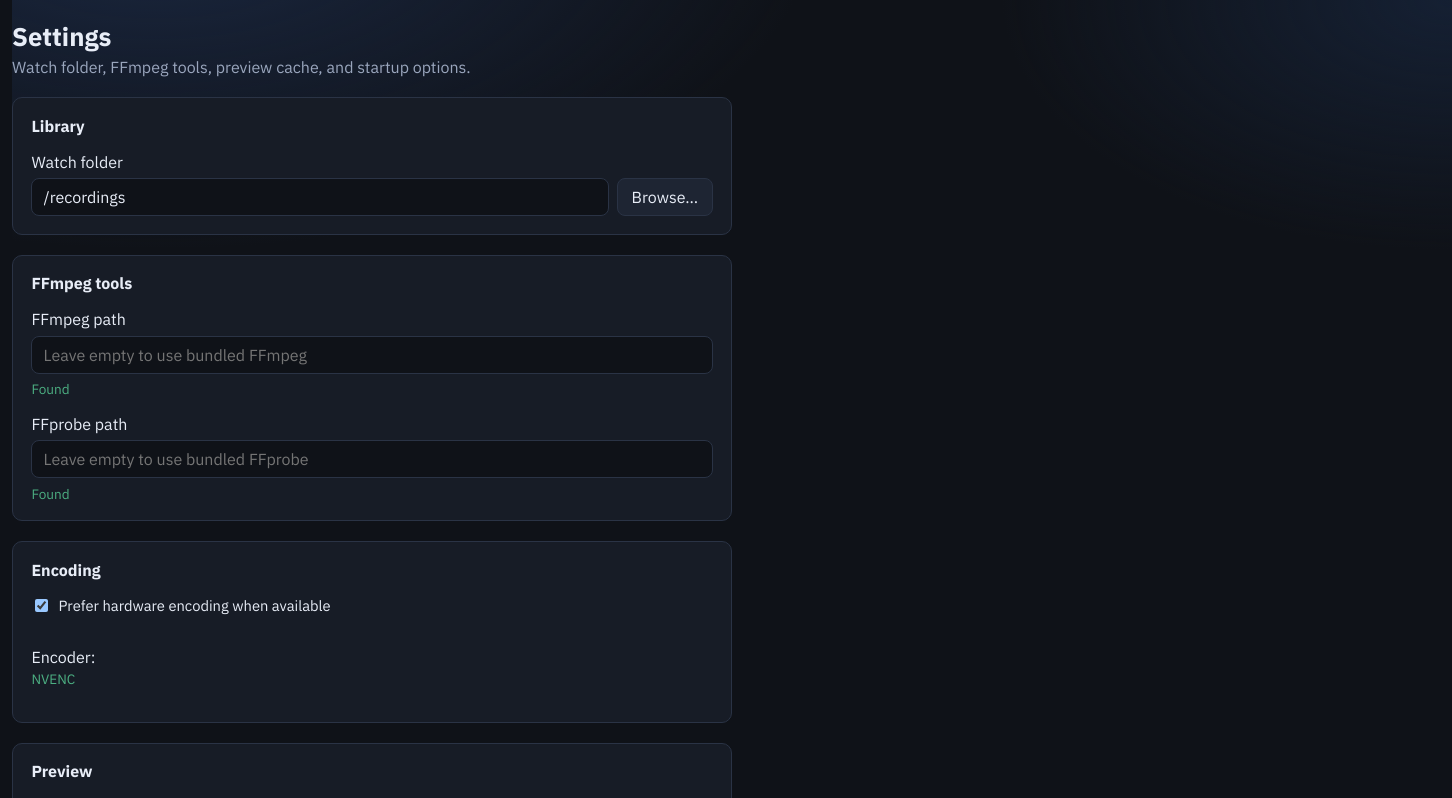
SettingsView watch folder access › applies browsed path when checkWatchDir succeeds
This screenshot has width=1452, height=798.
Step 1. Click the button "Browse…" → (665, 197), box [617,178,713,216]
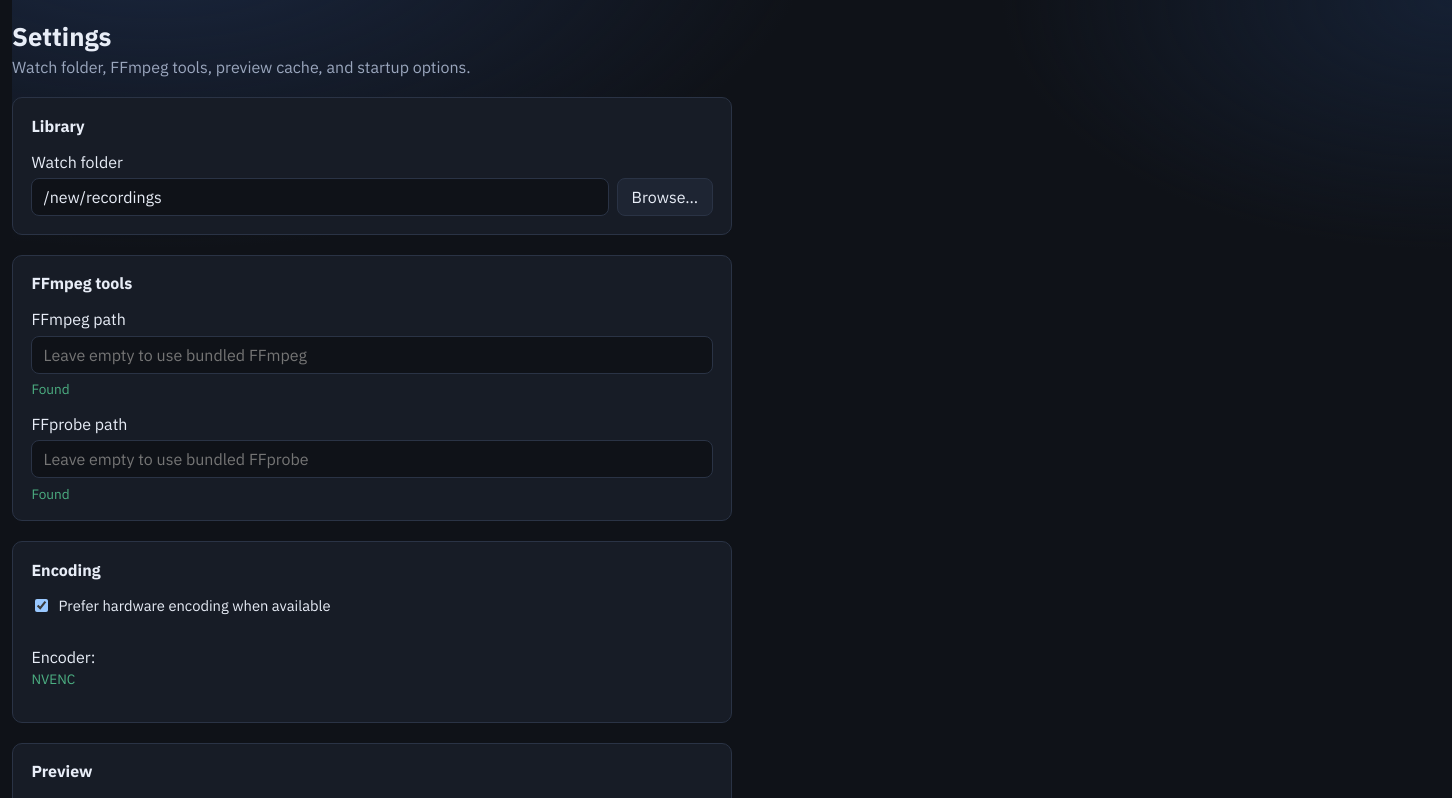
Expected: the field showing "/new/recordings" holds "/new/recordings", [31,178,609,216]
